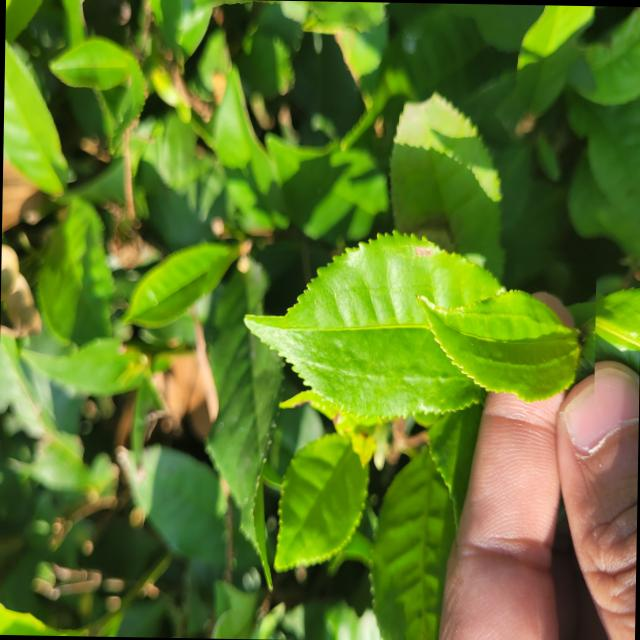Catagory A(1-2 days): (414, 240, 596, 410)
